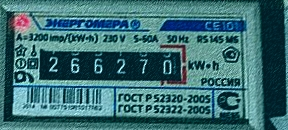0: (157, 56, 170, 73)
2: (43, 52, 56, 70), (111, 54, 123, 72)
6: (88, 55, 101, 73), (66, 54, 78, 72)
7: (134, 55, 146, 73)
screen: (25, 37, 189, 88)
